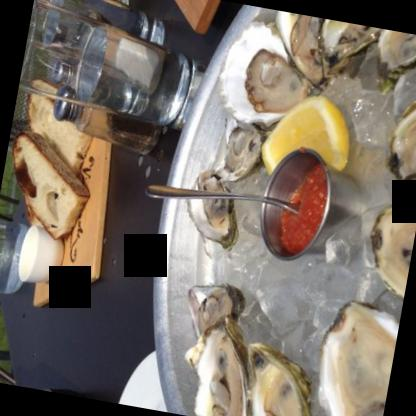oyster: (308, 296, 402, 415), (213, 17, 310, 128), (183, 313, 270, 415), (284, 13, 385, 86), (232, 338, 327, 415), (359, 195, 415, 307), (380, 72, 415, 193), (372, 27, 415, 81)
